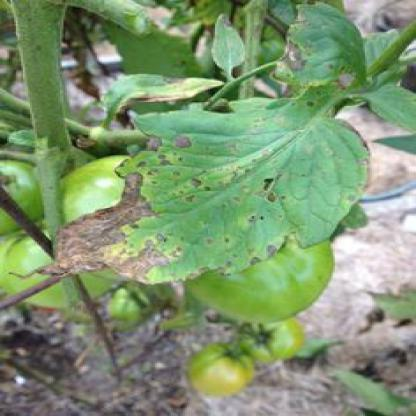tomato leaf bacterial spot: (16, 95, 374, 280)
